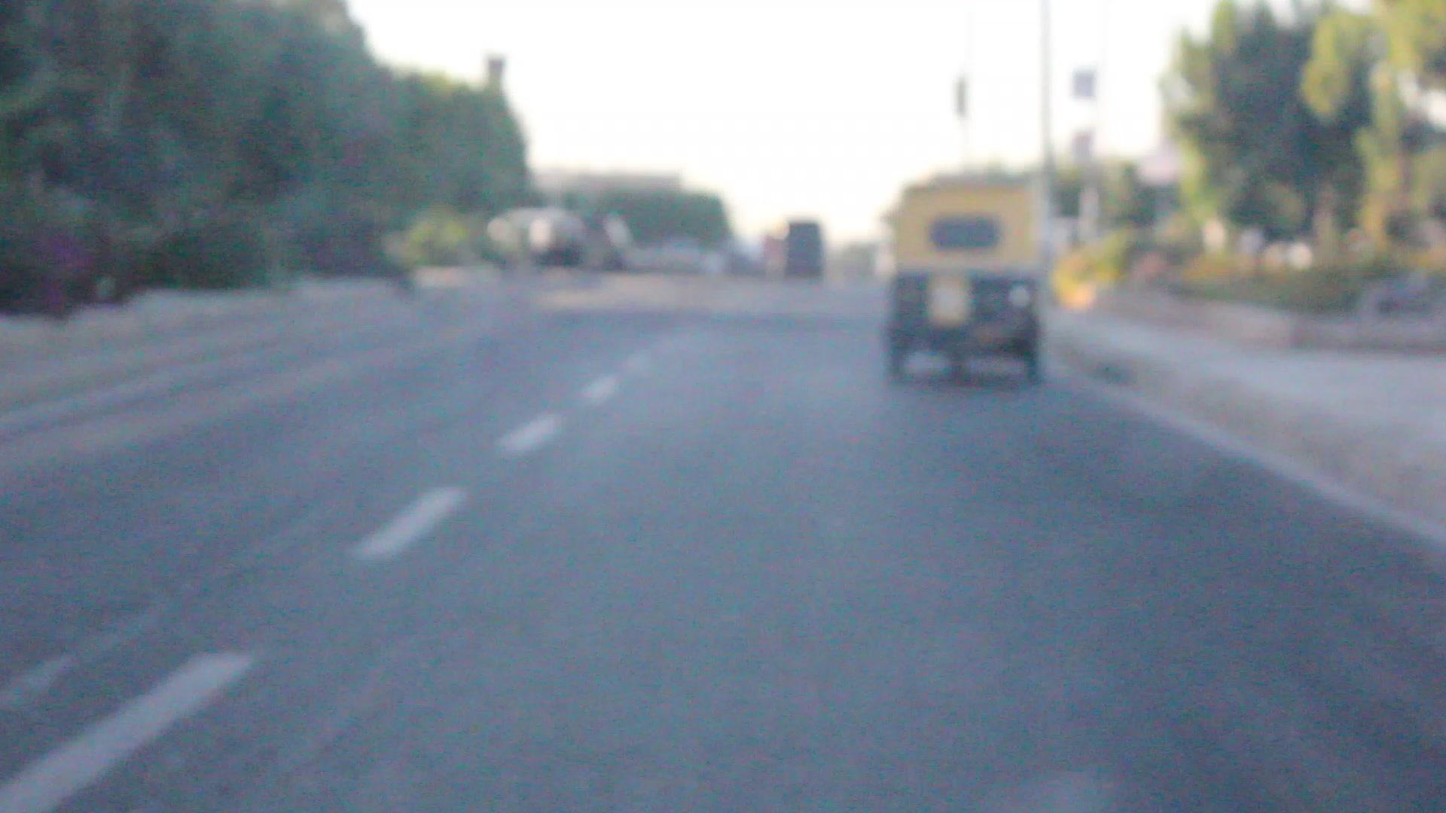Bump: (405, 304, 885, 329)
